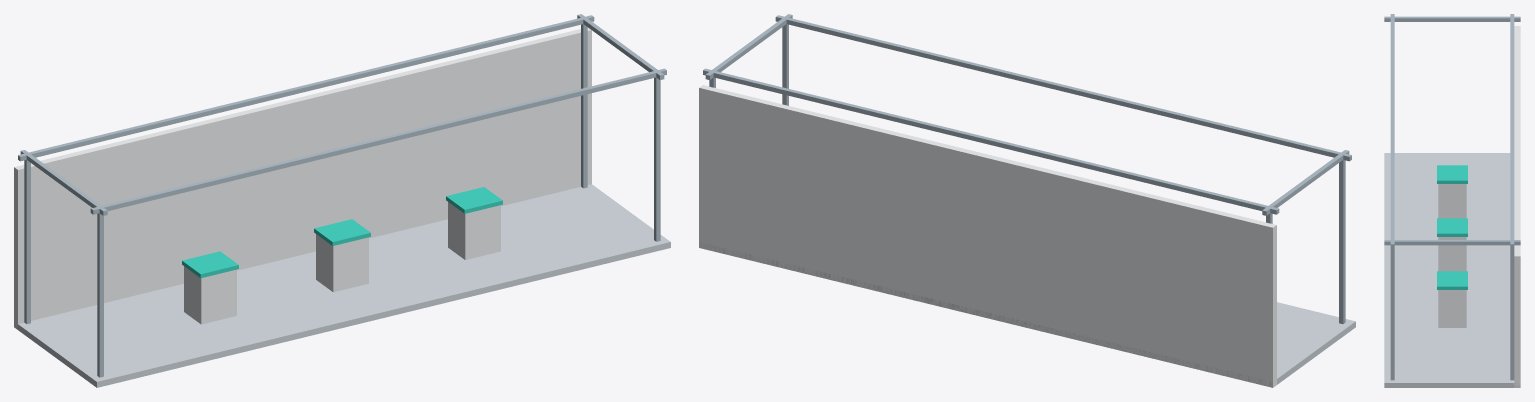
3 views of the same model, side by side, from view 1: azimuth 30°, elevation 25°; view 2: azimuth 150°, elevation 25°; view 3: azimuth 270°, elevation 25° (orthographic). The views are drawn at different scales.
Parts seen in each view (by area): view 1: Exhibition Booth Concept; view 2: Exhibition Booth Concept; view 3: Exhibition Booth Concept.
Boxes of the visible parts, x1,y1,x2,y2 form: Exhibition Booth Concept: (14,14,670,387); Exhibition Booth Concept: (699,14,1355,387); Exhibition Booth Concept: (1384,14,1520,387).
Bounding box in the file's own units: 12 × 3.49 × 3.
